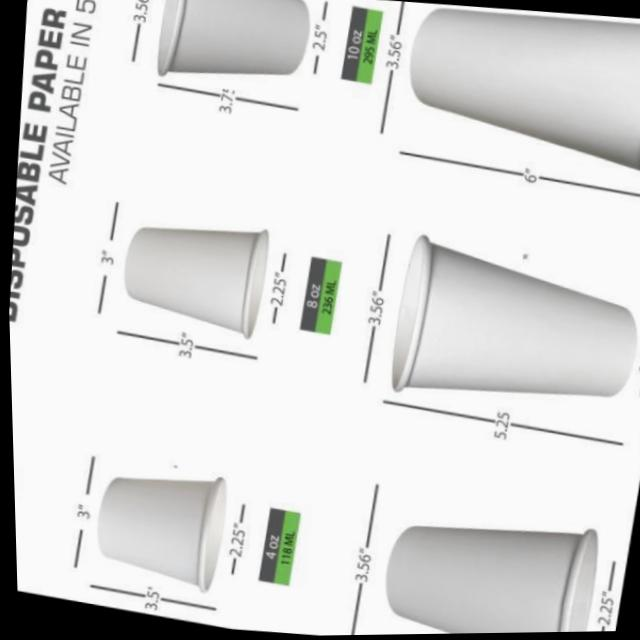Cup: (372, 227, 640, 438), (389, 0, 640, 185), (365, 488, 606, 636), (109, 199, 279, 345), (81, 449, 237, 599), (144, 0, 318, 103)
